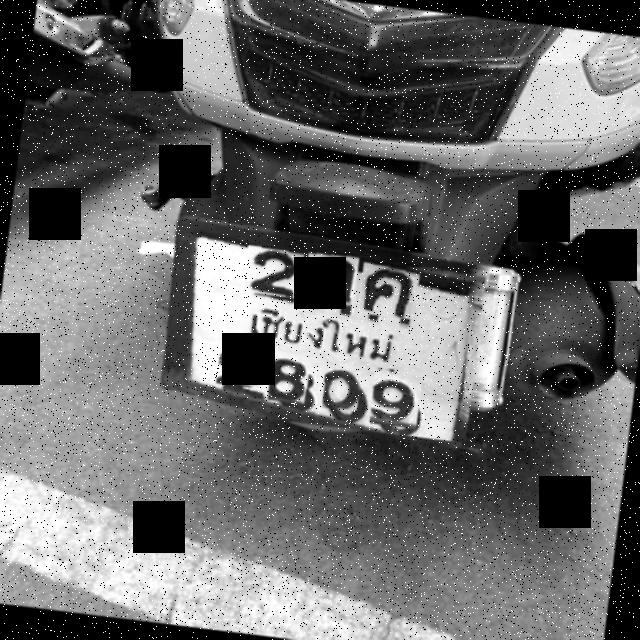letters: (302, 244, 360, 309), (357, 262, 420, 320), (242, 244, 304, 298), (368, 371, 422, 428), (267, 350, 311, 404), (216, 340, 256, 388), (320, 368, 360, 411)
license-plate: (171, 223, 484, 442)
province: (245, 302, 410, 371)
